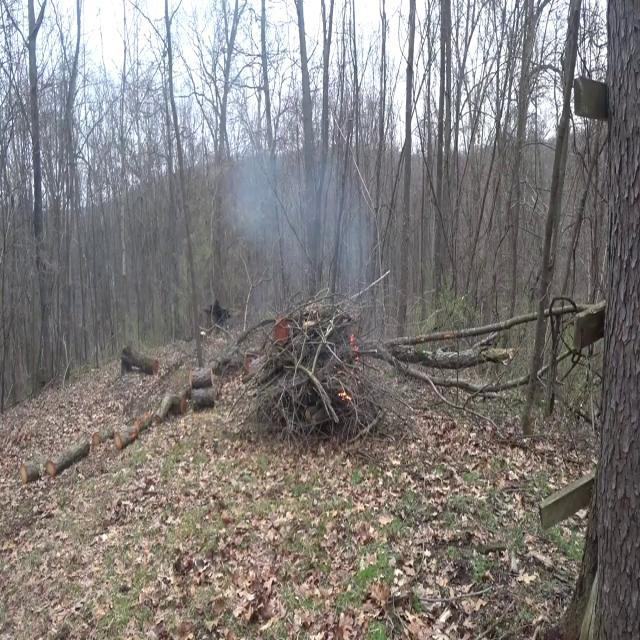Smoke: (221, 120, 382, 318)
